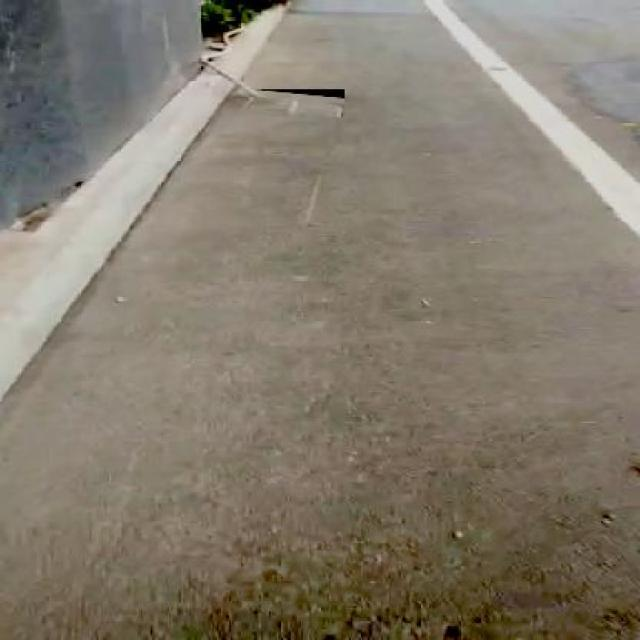Manhole: (252, 89, 346, 117)
